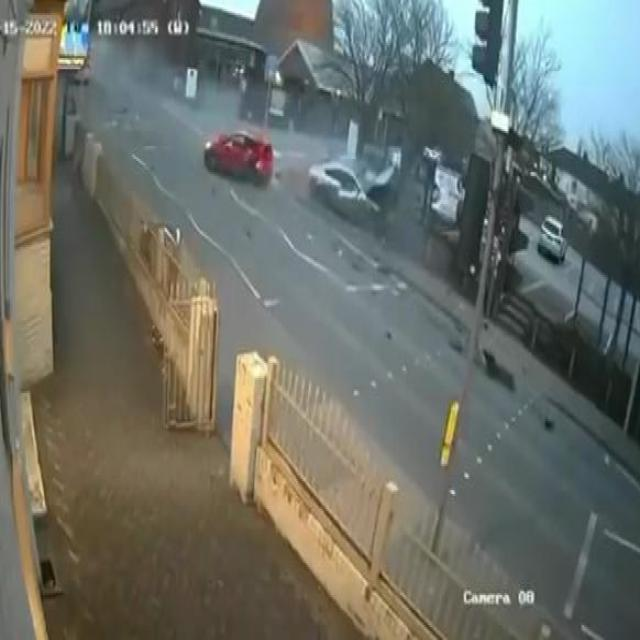accident: (302, 138, 404, 238), (196, 112, 275, 196)
